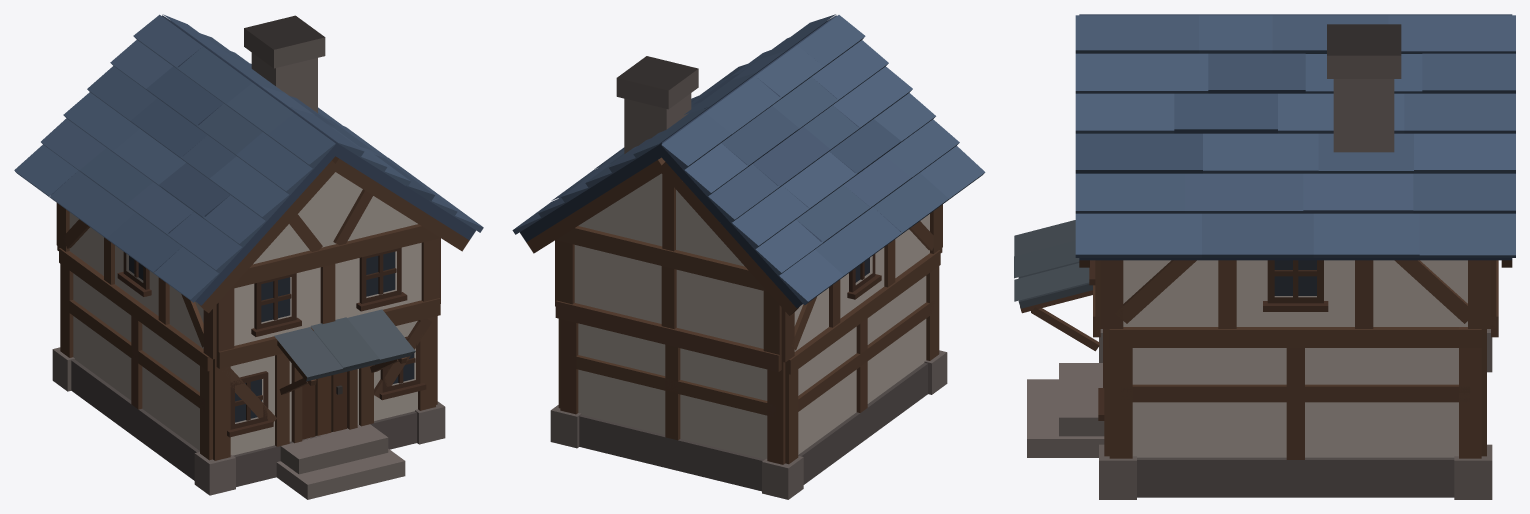
The model's file is homeB.glb.
3 renders of one model, left to right at view 1: azimuth 30°, elevation 25°; view 2: azimuth 150°, elevation 25°; view 3: azimuth 270°, elevation 25°, orthographic. The views are drawn at different scales.
Visible parts, largest first — view 1: lit, face, canvas; view 2: lit, canvas, face; view 3: lit, canvas, face.
Part boxes in pixels (x1,y1,x2,y2): lit: [14, 14, 483, 499]; face: [56, 189, 440, 460]; canvas: [69, 172, 421, 455]; lit: [512, 14, 985, 499]; canvas: [574, 173, 929, 459]; face: [555, 174, 942, 464]; lit: [1014, 14, 1515, 499]; canvas: [1123, 260, 1467, 457]; face: [1093, 260, 1498, 459].
Size of the model in its own units: 5.59 by 6.2 by 6.61.
